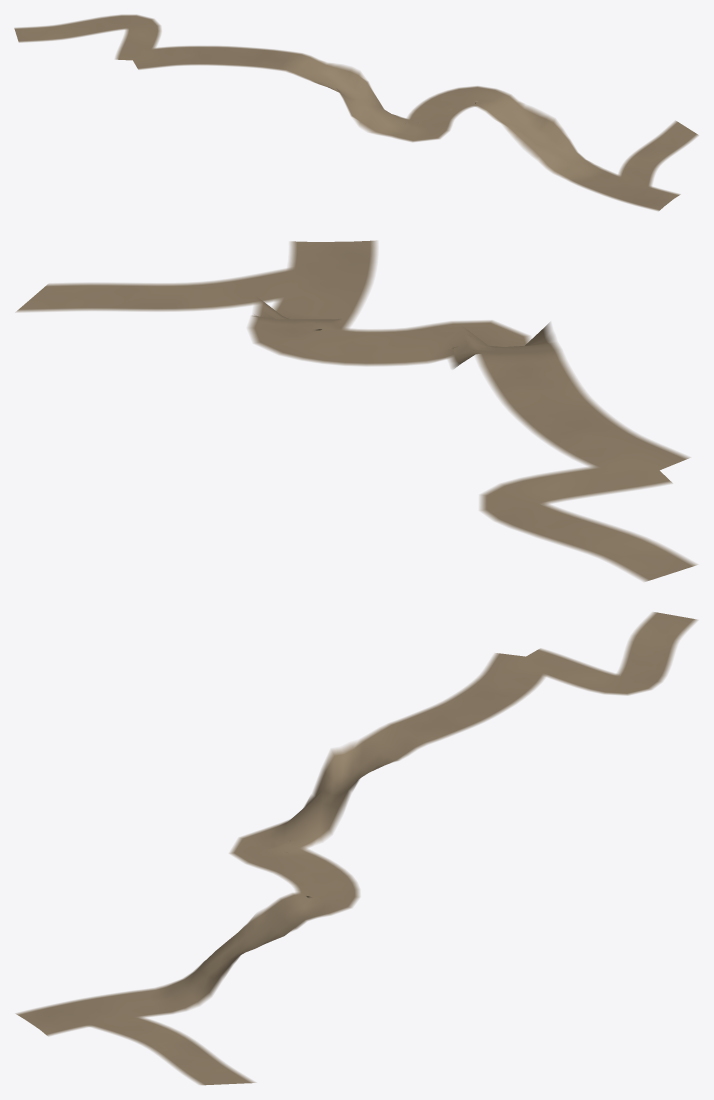
Rendered from paths_highland.glb.
3 renders of one model, top to bottom at view 1: azimuth 30°, elevation 25°; view 2: azimuth 150°, elevation 25°; view 3: azimuth 270°, elevation 25°, orthographic. The views are drawn at different scales.
Parts seen in each view (by area): view 1: path_to_highland, path_plateau_walk, path_base_to_orchard; view 2: path_to_highland, path_plateau_walk, path_base_to_orchard; view 3: path_to_highland, path_plateau_walk, path_base_to_orchard.
Boxes of the visible parts, bbox=[...] form: path_to_highland: bbox=[127, 46, 680, 211]; path_plateau_walk: bbox=[14, 14, 161, 60]; path_base_to_orchard: bbox=[614, 120, 698, 193]; path_to_highland: bbox=[247, 240, 690, 482]; path_plateau_walk: bbox=[479, 458, 697, 581]; path_base_to_orchard: bbox=[15, 263, 342, 312]; path_to_highland: bbox=[15, 653, 555, 1036]; path_plateau_walk: bbox=[515, 612, 697, 695]; path_base_to_orchard: bbox=[72, 1004, 256, 1085].
Size of the model in its own units: 16.77 by 3.04 by 14.19.
